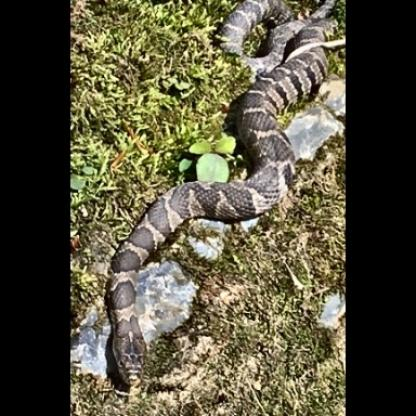Snake: (98, 16, 328, 406)
